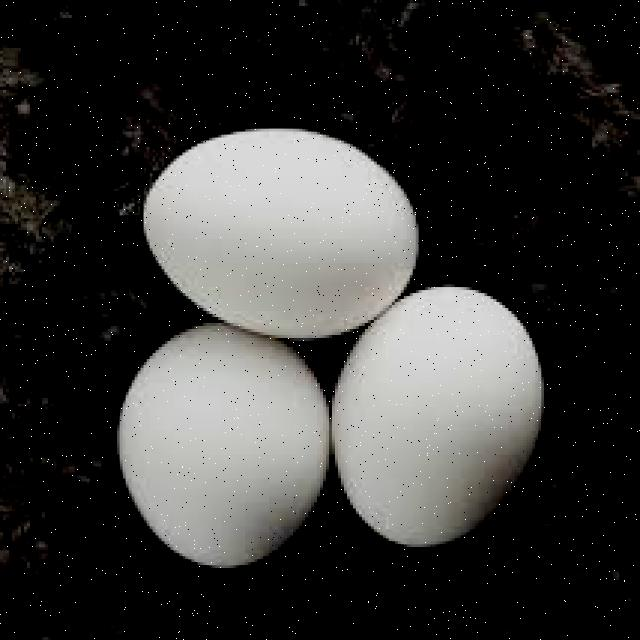White Egg: (327, 276, 542, 564), (150, 117, 431, 331), (126, 317, 341, 566)
